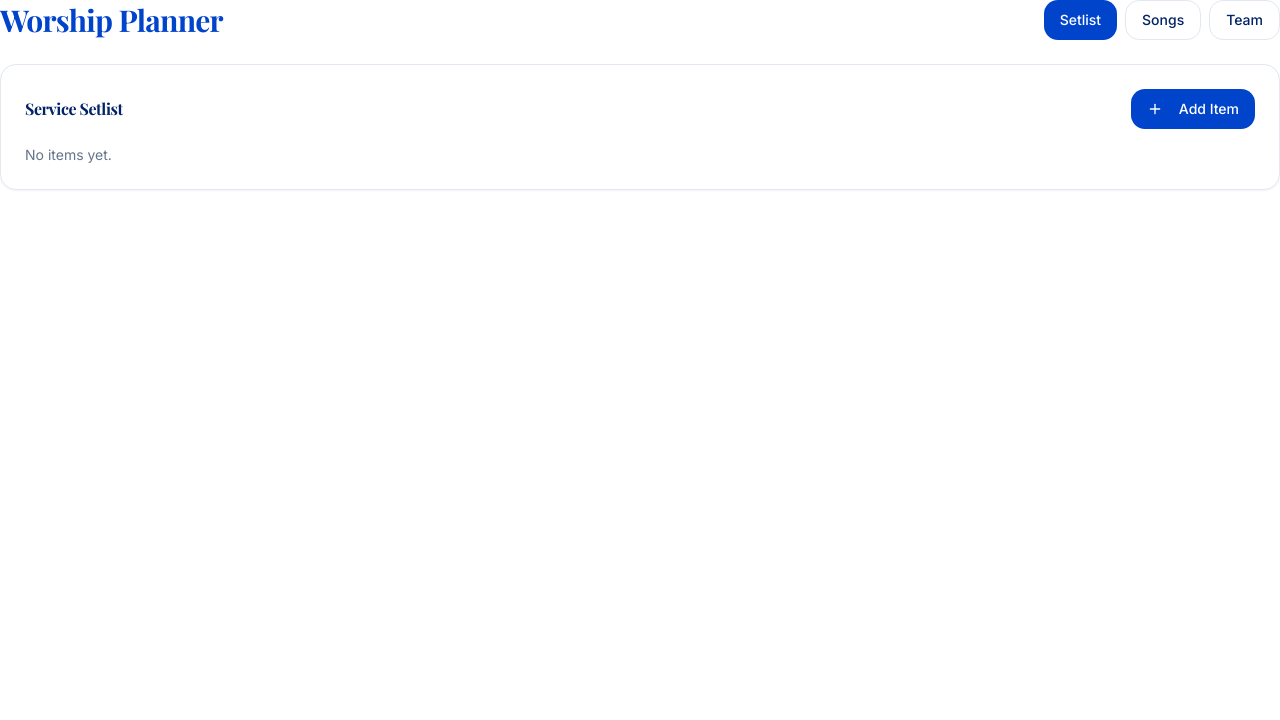
Test case: Event Modules Permission Guarding › allows authorized worship users to create songs
The width and height of the screenshot is (1280, 720).
Later steps or results of the test are not shown.
Click the button "Songs": coordinates (1163, 20) x1=1125 y1=0 x2=1201 y2=40
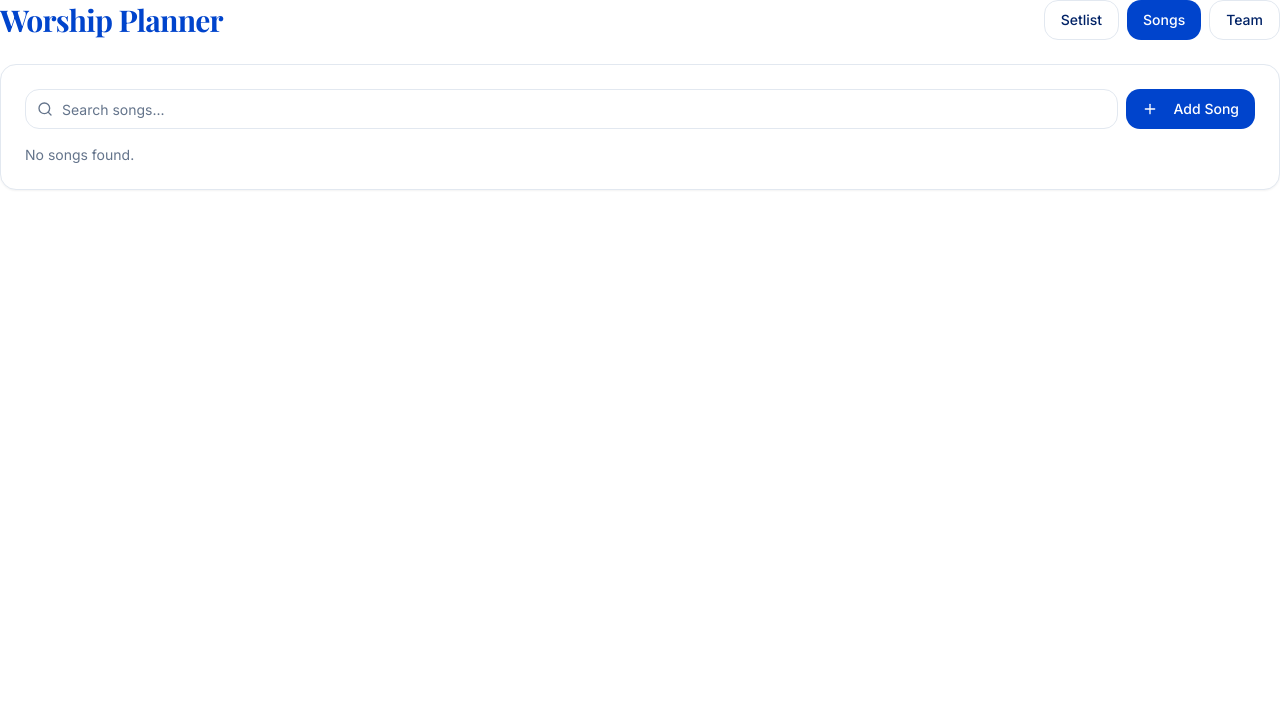
Click the button "Add Song": coordinates (1190, 109) x1=1126 y1=89 x2=1255 y2=129
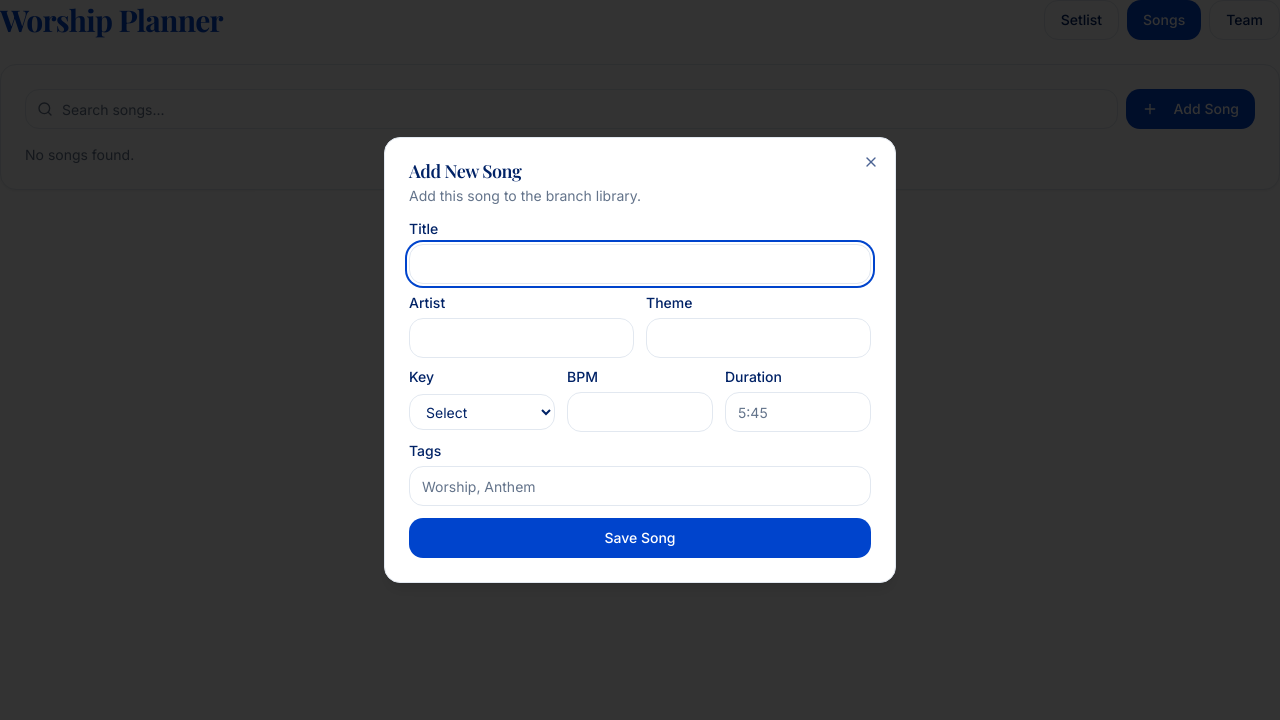
Check: the field named "title" below "Title" is shown, box x1=409 y1=244 x2=871 y2=284
